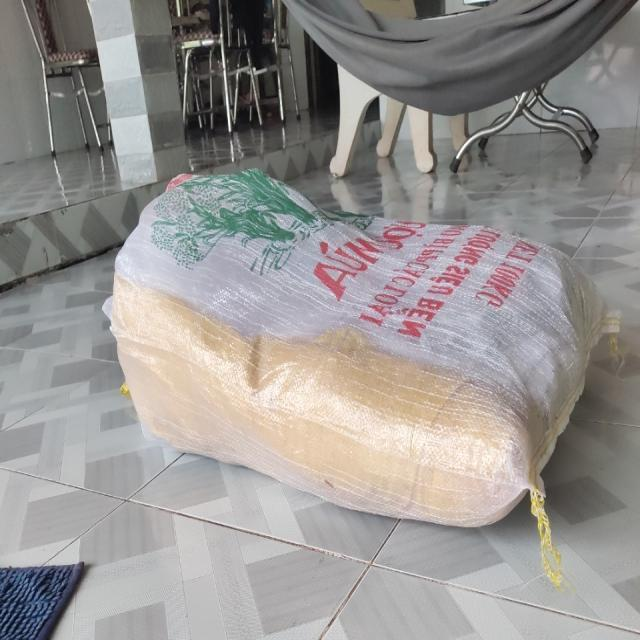gunny_bag: (105, 170, 605, 555)
